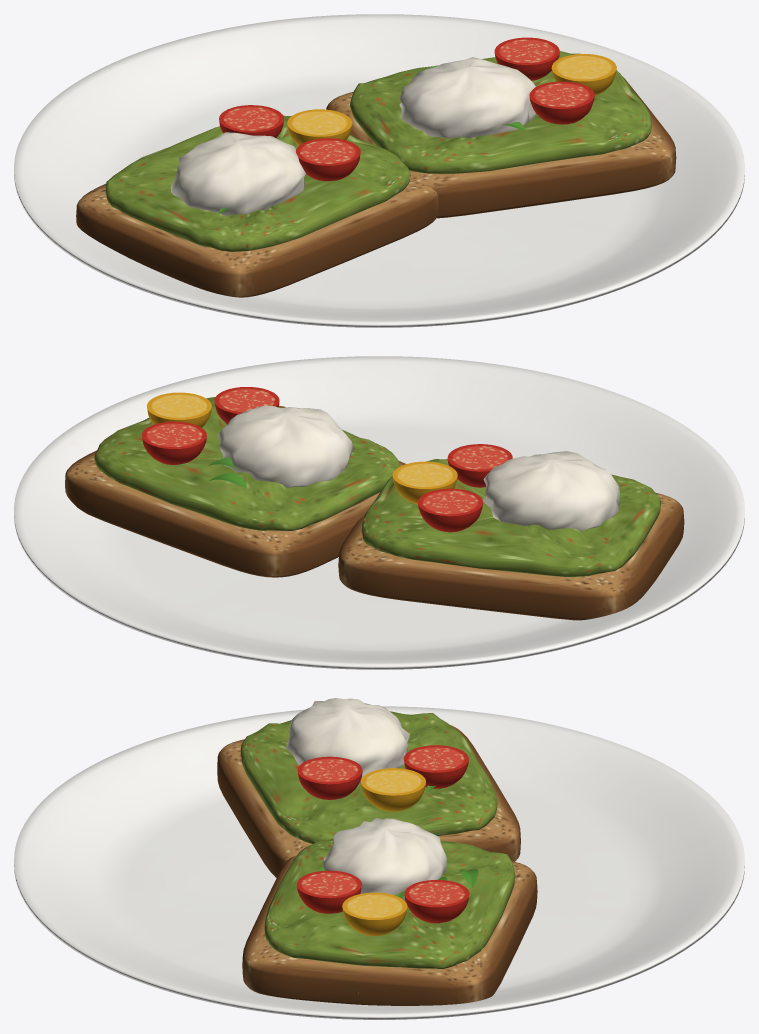
Rendered from avocado-toast.glb.
3 views of the same model, one above another, from view 1: azimuth 30°, elevation 25°; view 2: azimuth 150°, elevation 25°; view 3: azimuth 270°, elevation 25° (orthographic).
Visible parts, largest first — view 1: ceramic, satin, matte; view 2: ceramic, satin, matte; view 3: ceramic, satin, matte.
Boxes of the visible parts, box(x1,y1,x2,y2) form: ceramic: box(14, 14, 744, 327); satin: box(105, 37, 651, 251); matte: box(76, 76, 676, 297); ceramic: box(14, 356, 744, 669); satin: box(94, 387, 660, 576); matte: box(65, 450, 684, 620); ceramic: box(14, 706, 744, 1019); satin: box(240, 698, 515, 969); matte: box(217, 725, 537, 1005).
Bounding box in the file's own units: 0.28 × 0.0491 × 0.28.
Materials: 3 (3 with a texture image).
